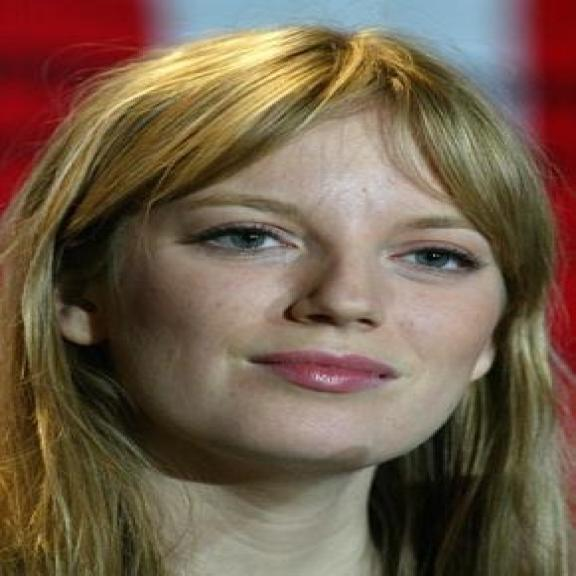face: (42, 66, 541, 474)
